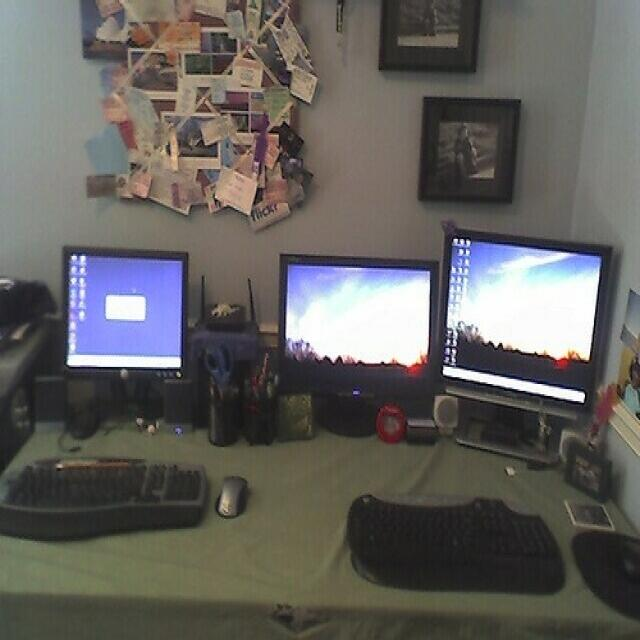tvmonitor: (440, 223, 617, 472), (276, 254, 444, 433), (60, 240, 190, 417)
